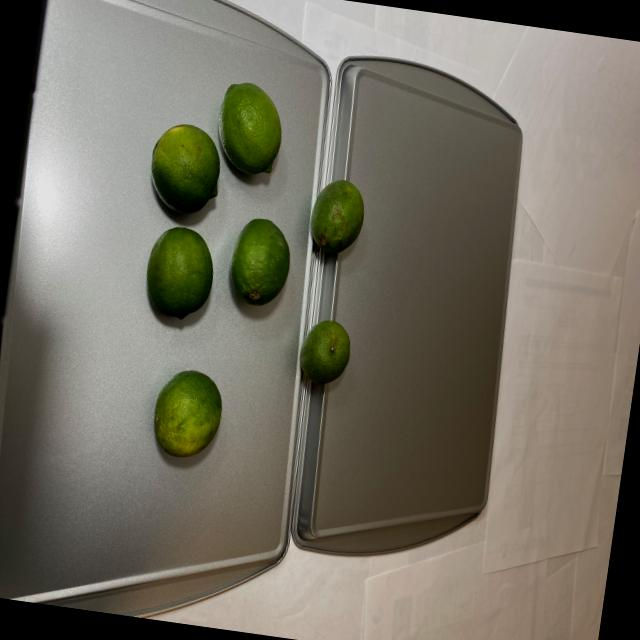lemon: (108, 69, 389, 483)
